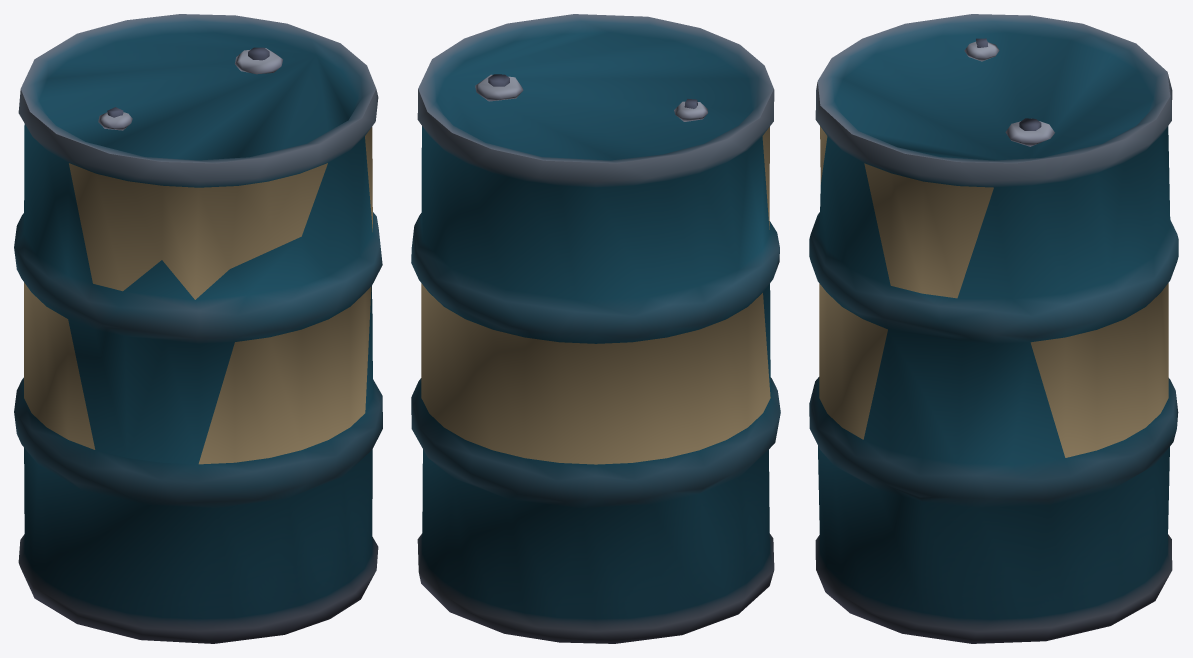
Rendered from bidon.glb.
3 views of the same model, side by side, from view 1: azimuth 30°, elevation 25°; view 2: azimuth 150°, elevation 25°; view 3: azimuth 270°, elevation 25° (orthographic).
Parts seen in each view (by area): view 1: bidon; view 2: bidon; view 3: bidon.
Boxes of the visible parts, bbox=[...] form: bidon: bbox=[14, 14, 382, 643]; bidon: bbox=[411, 14, 780, 643]; bidon: bbox=[809, 14, 1178, 643].
Bounding box in the file's own units: 0.6134 × 0.8893 × 0.6106.
